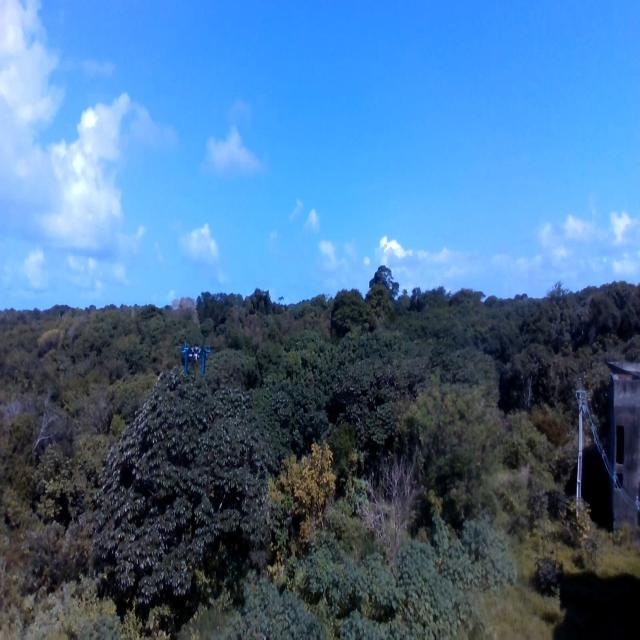-uav-: (176, 335, 222, 394)
